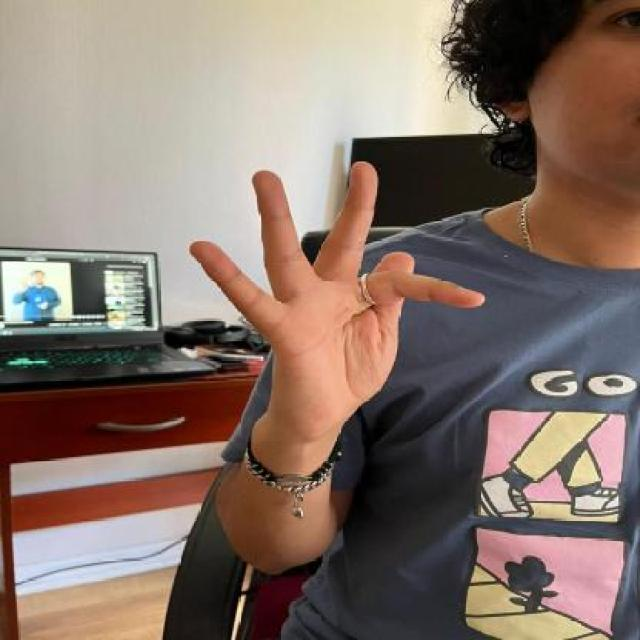F: (177, 156, 491, 441)
